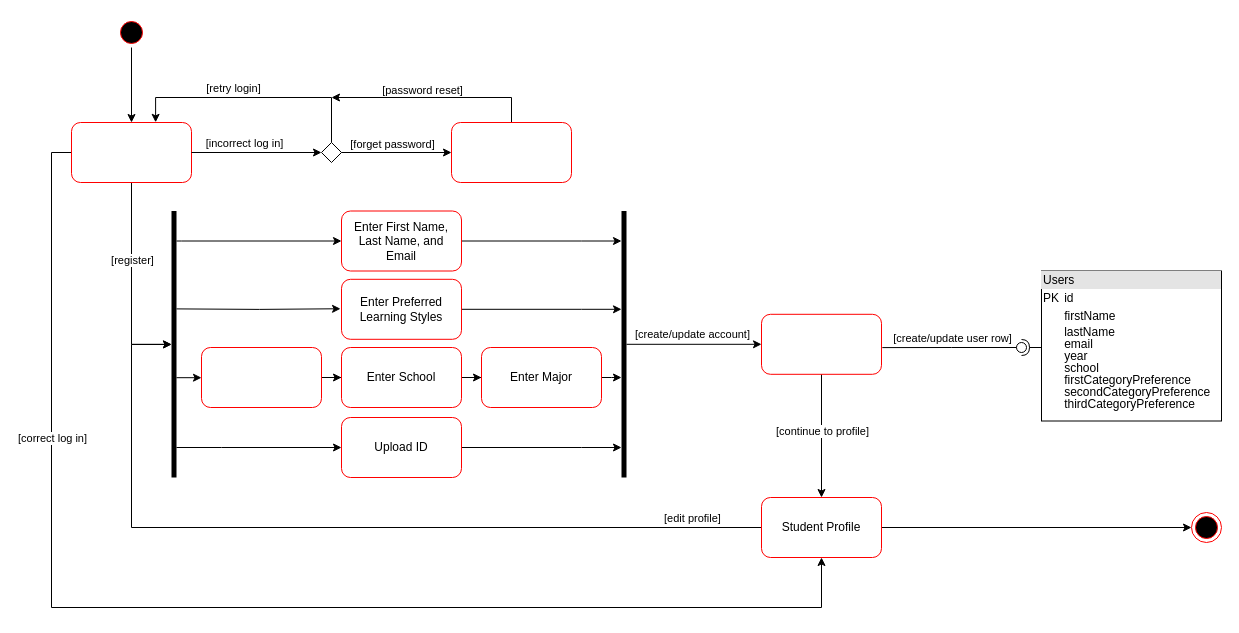
Some shapes in this 1239 by 633 pixel diagram are drawn without their labels. Here are the shapes that lost their labels. From the top down, the centre of each, then its label:
pixel 131 152: Log In
pixel 511 152: Reset Password
pixel 821 343: Account Created
pixel 261 377: Enter Year
